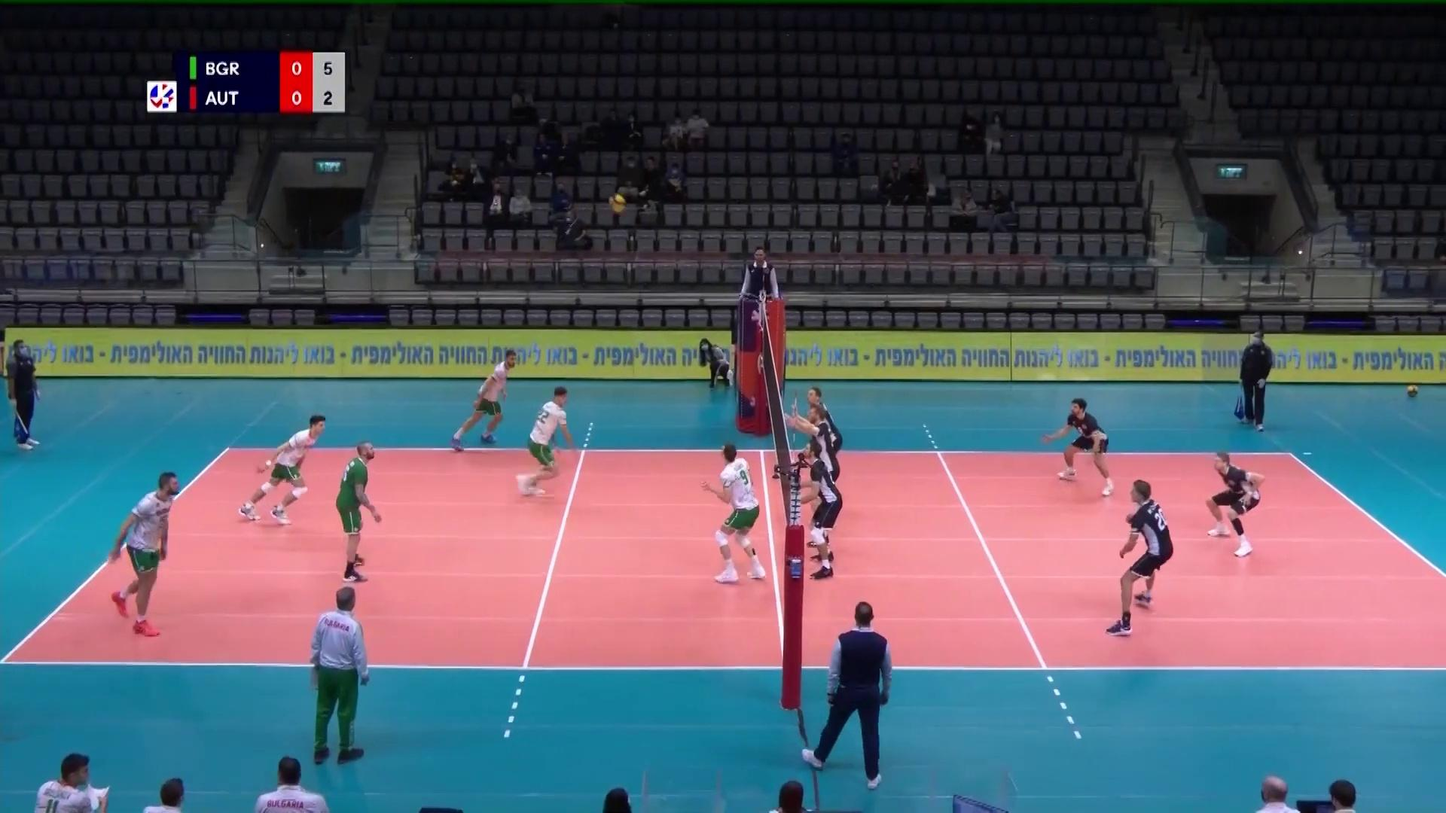ball: (608, 194, 626, 212)
